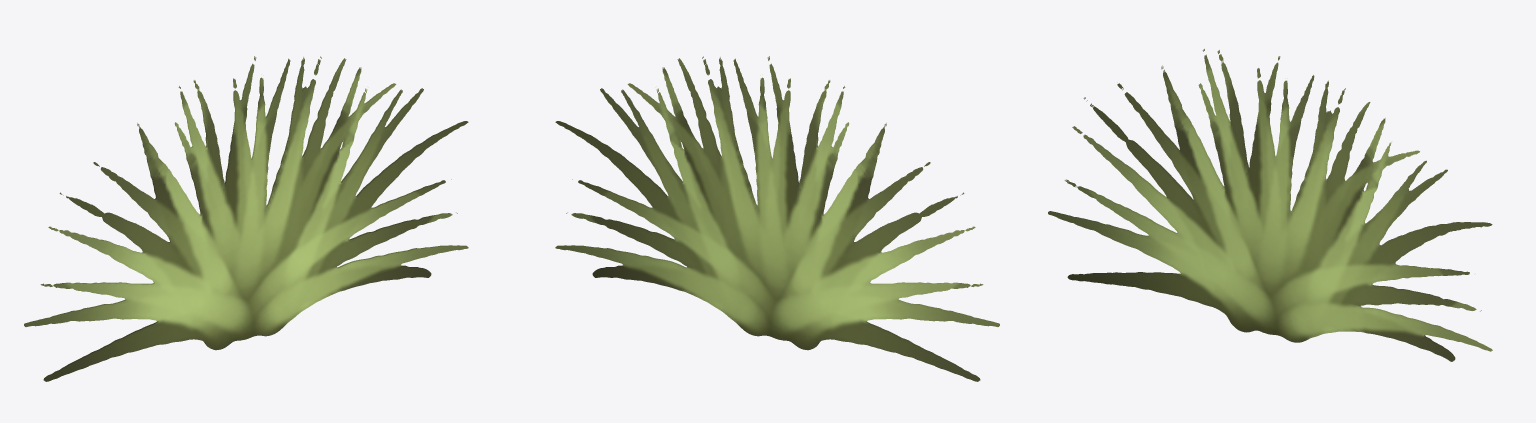
Rendered from painted-weed-1.glb.
3 views of the same model, side by side, from view 1: azimuth 30°, elevation 25°; view 2: azimuth 150°, elevation 25°; view 3: azimuth 330°, elevation 25° (orthographic).
Size of the model in its own units: 10 by 6.65 by 0.04.
Materials: 1 (1 with a texture image).
